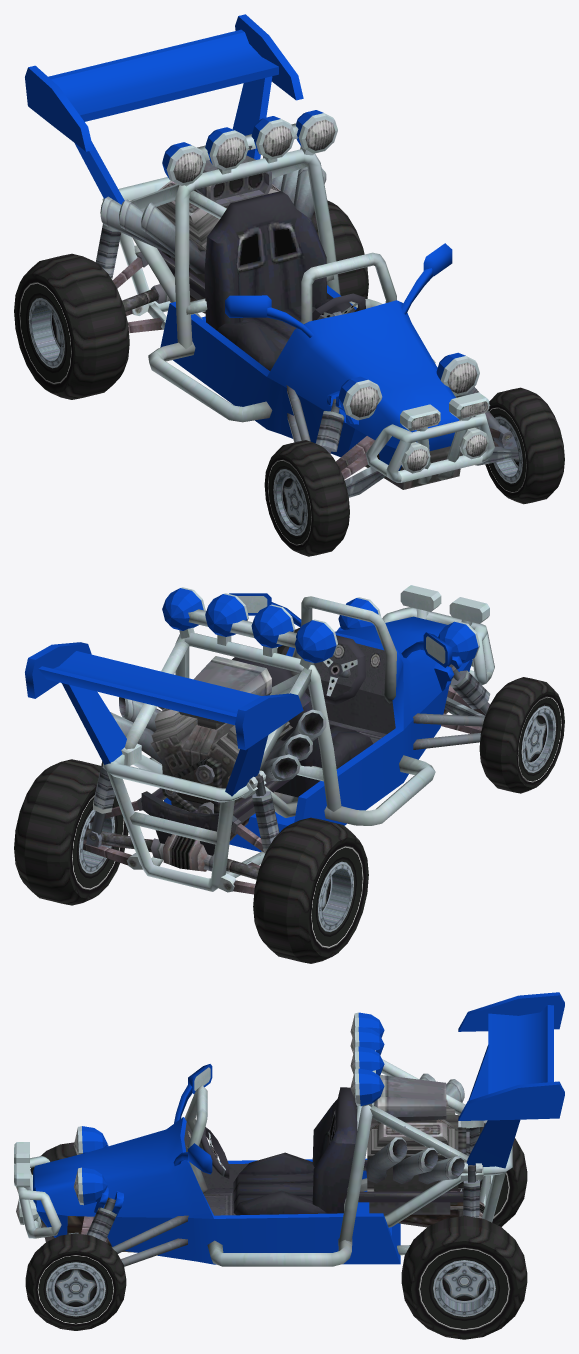
Rendered from buggy.glb.
3 views of the same model, one above another, from view 1: azimuth 30°, elevation 25°; view 2: azimuth 150°, elevation 25°; view 3: azimuth 270°, elevation 25° (orthographic). The views are drawn at different scales.
Parts seen in each view (by area): view 1: mesh_36_124.nr_mat_6.001_0; view 2: mesh_36_124.nr_mat_6.001_0; view 3: mesh_36_124.nr_mat_6.001_0.
Boxes of the visible parts, x1,y1,x2,y2 form: mesh_36_124.nr_mat_6.001_0: [14, 14, 564, 556]; mesh_36_124.nr_mat_6.001_0: [14, 585, 564, 963]; mesh_36_124.nr_mat_6.001_0: [14, 992, 564, 1339].
Bounding box in the file's own units: 2.11 × 1.94 × 3.94.
Materials: 6 (5 with a texture image).
